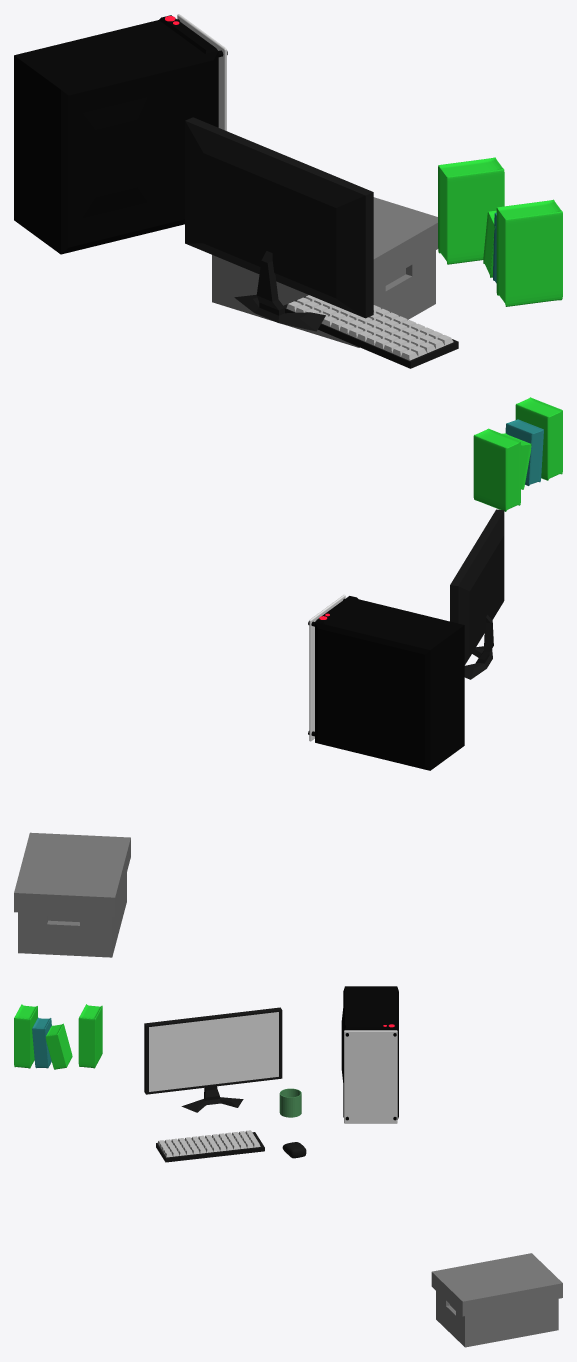
The model's file is Props.fbx.
3 views of the same model, one above another, from view 1: azimuth 30°, elevation 25°; view 2: azimuth 150°, elevation 25°; view 3: azimuth 270°, elevation 25° (orthographic). The views are drawn at different scales.
Parts seen in each view (by area): view 1: Cube.009, Cube.011, Cube.037, Cube.030, Cube.033, Cube.014, Cube.012, Cube.013, Cube.010, Cube.032; view 2: Cube.009, Cube.037, Cube.011, Cube.033, Cube.030, Cube.031, Cube.010, Cube.012; view 3: Cube.011, Cube.037, Cube.010, Cube.009, Cube.014, Cube.033, Cube.030, Cube.032, Cube.031, Cube.013, Cube.012, Cylinder.015.
Boxes of the visible parts, x1,y1,x2,y2 form: Cube.009: (14, 15, 218, 254); Cube.011: (185, 117, 373, 318); Cube.037: (212, 197, 438, 347); Cube.030: (496, 199, 562, 306); Cube.033: (438, 157, 504, 264); Cube.014: (286, 295, 453, 360); Cube.012: (234, 251, 325, 331); Cube.013: (283, 295, 458, 368); Cube.010: (177, 14, 226, 130); Cube.032: (483, 210, 496, 277); Cube.009: (315, 596, 464, 770); Cube.037: (14, 832, 130, 957); Cube.011: (450, 509, 504, 664); Cube.033: (473, 428, 520, 511); Cube.030: (515, 397, 562, 480); Cube.031: (505, 419, 543, 485); Cube.010: (309, 594, 345, 741); Cube.012: (464, 615, 493, 679); Cube.011: (144, 1007, 282, 1094); Cube.037: (431, 1253, 562, 1347); Cube.010: (344, 1030, 397, 1123); Cube.009: (341, 986, 398, 1119); Cube.014: (157, 1130, 260, 1157); Cube.033: (78, 1004, 102, 1068); Cube.030: (14, 1004, 37, 1068); Cube.032: (45, 1023, 72, 1069); Cube.031: (32, 1017, 51, 1068); Cube.013: (156, 1132, 264, 1162); Cube.012: (181, 1086, 243, 1112); Cylinder.015: (279, 1088, 301, 1117).
Size of the model in its own units: 125 by 112 by 219.
